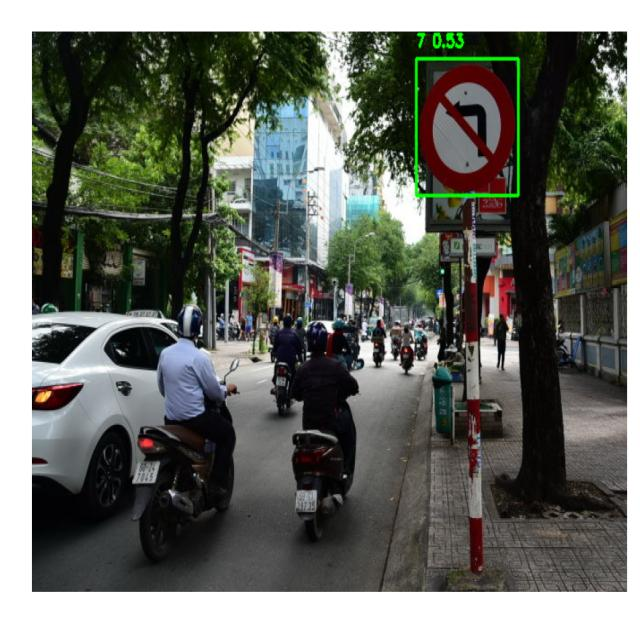Bien bao cam re trai: (418, 57, 520, 195)
